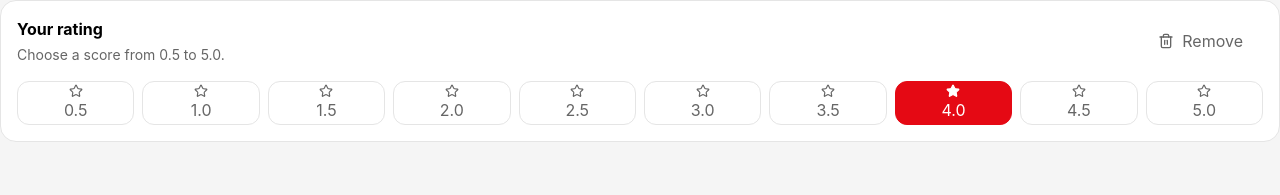
Test: RatingControl › removes the current rating through the delete endpoint
Click the button "Remove". click: click(1201, 41)
box: [1138,19,1263,63]
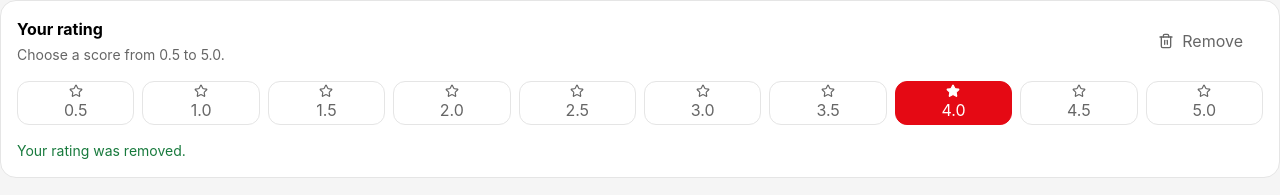
Now the text "Your rating was removed." is shown, box [17,142,186,159]
